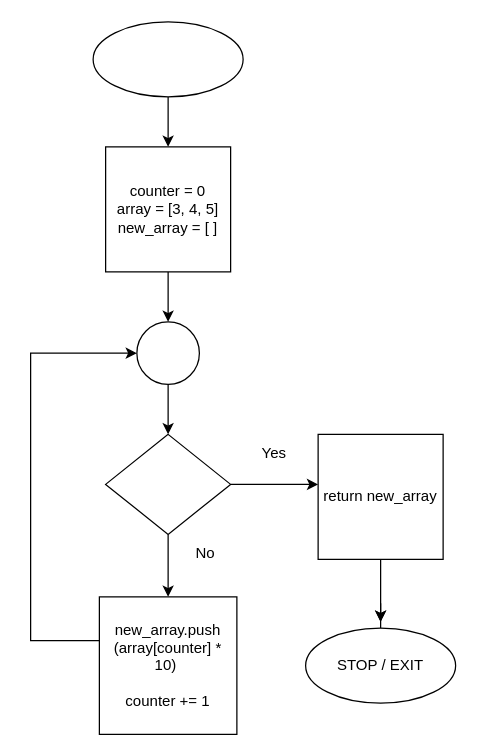
This 478x756 diagram has some shape labels left out. Each missing label, with the centre of its shape:
"counter == 3?" goes at (x=167, y=483).
"START" goes at (x=167, y=59).
